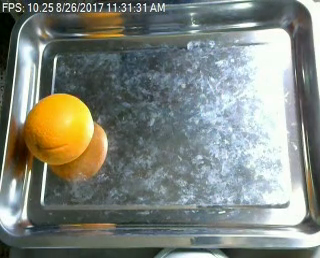Orange: (24, 91, 94, 165)
